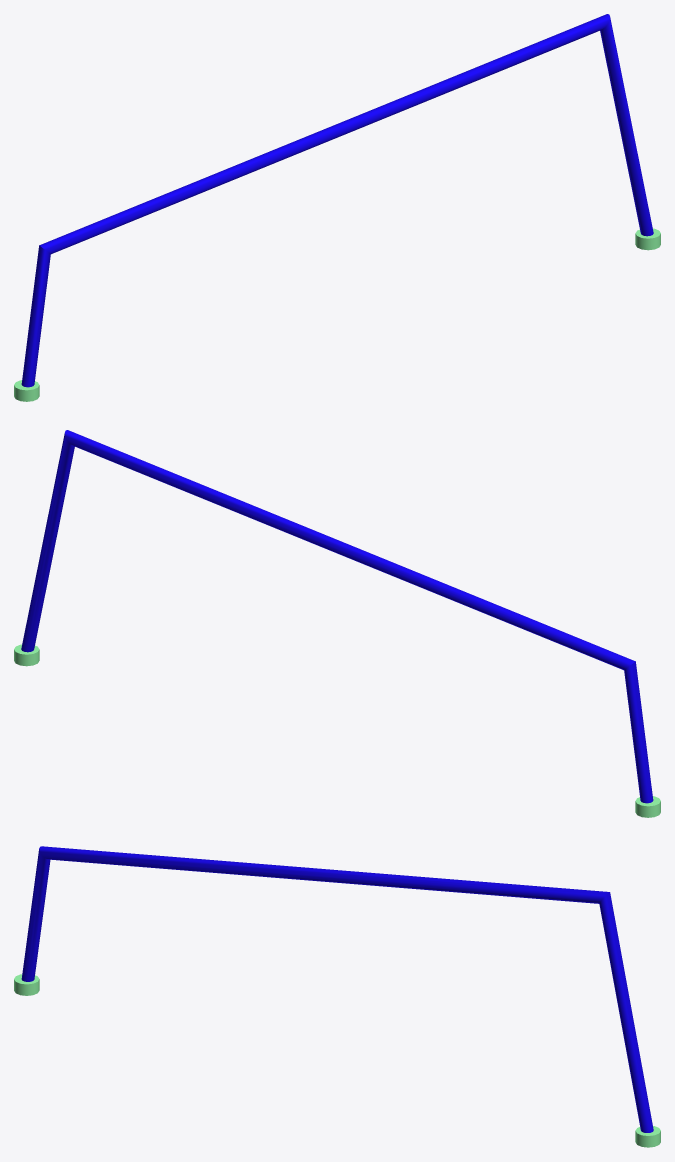
3 views of the same model, one above another, from view 1: azimuth 30°, elevation 25°; view 2: azimuth 150°, elevation 25°; view 3: azimuth 330°, elevation 25° (orthographic).
Parts seen in each view (by area): view 1: Line010; view 2: Line010; view 3: Line010.
Part boxes in pixels (x1=…): Line010: x1=14, y1=14, x2=660, y2=401; Line010: x1=14, y1=430, x2=660, y2=817; Line010: x1=14, y1=846, x2=660, y2=1147.
Size of the model in its own units: 291 by 104 by 10.
